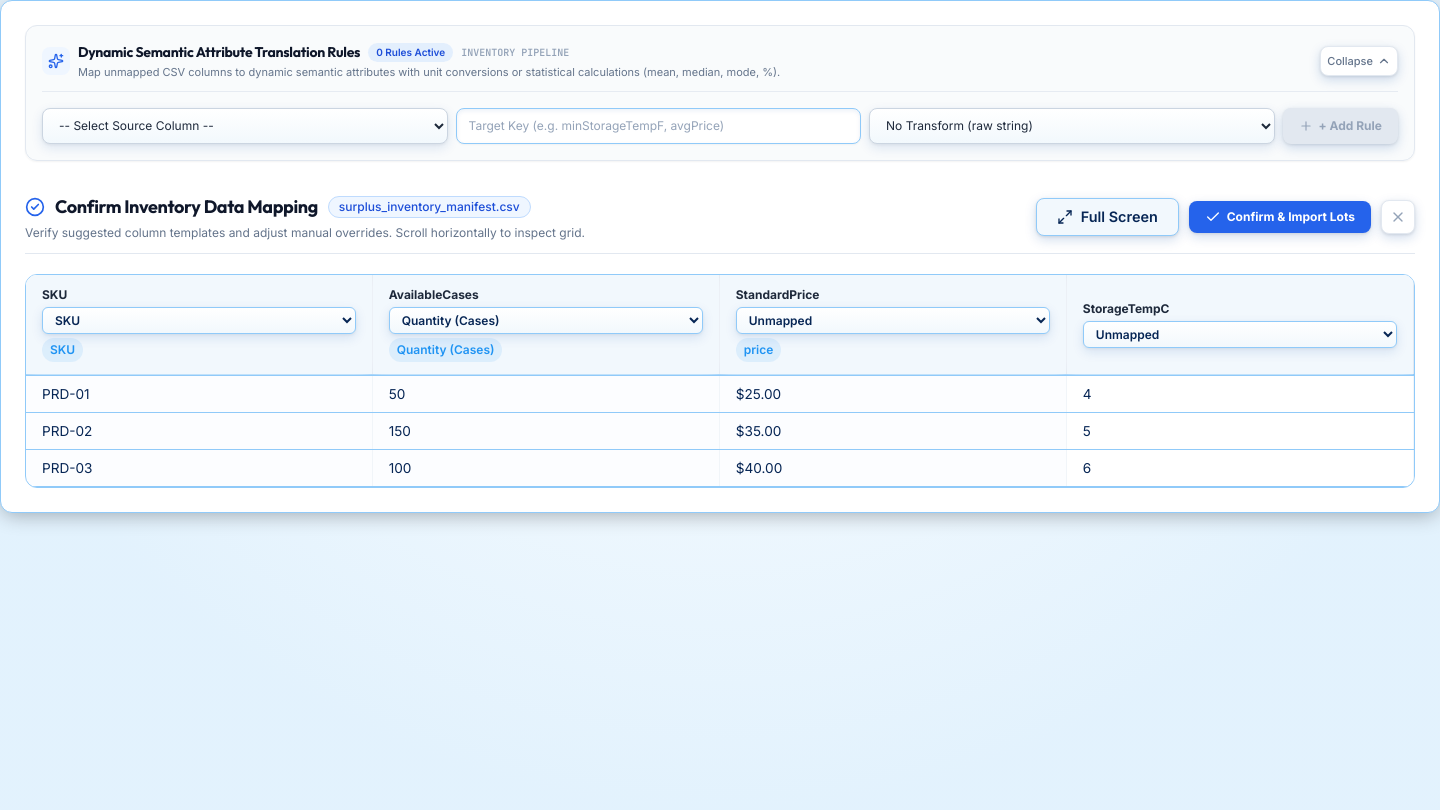
MappingPreview Components with Dynamic Semantic Translation Rules › InventoryMappingPreview › computes live metric when calculation option is selected on Inventory data
Select "AvailableCases" in the dropdown named "source column" at (245, 126), box [42,108,448,144]
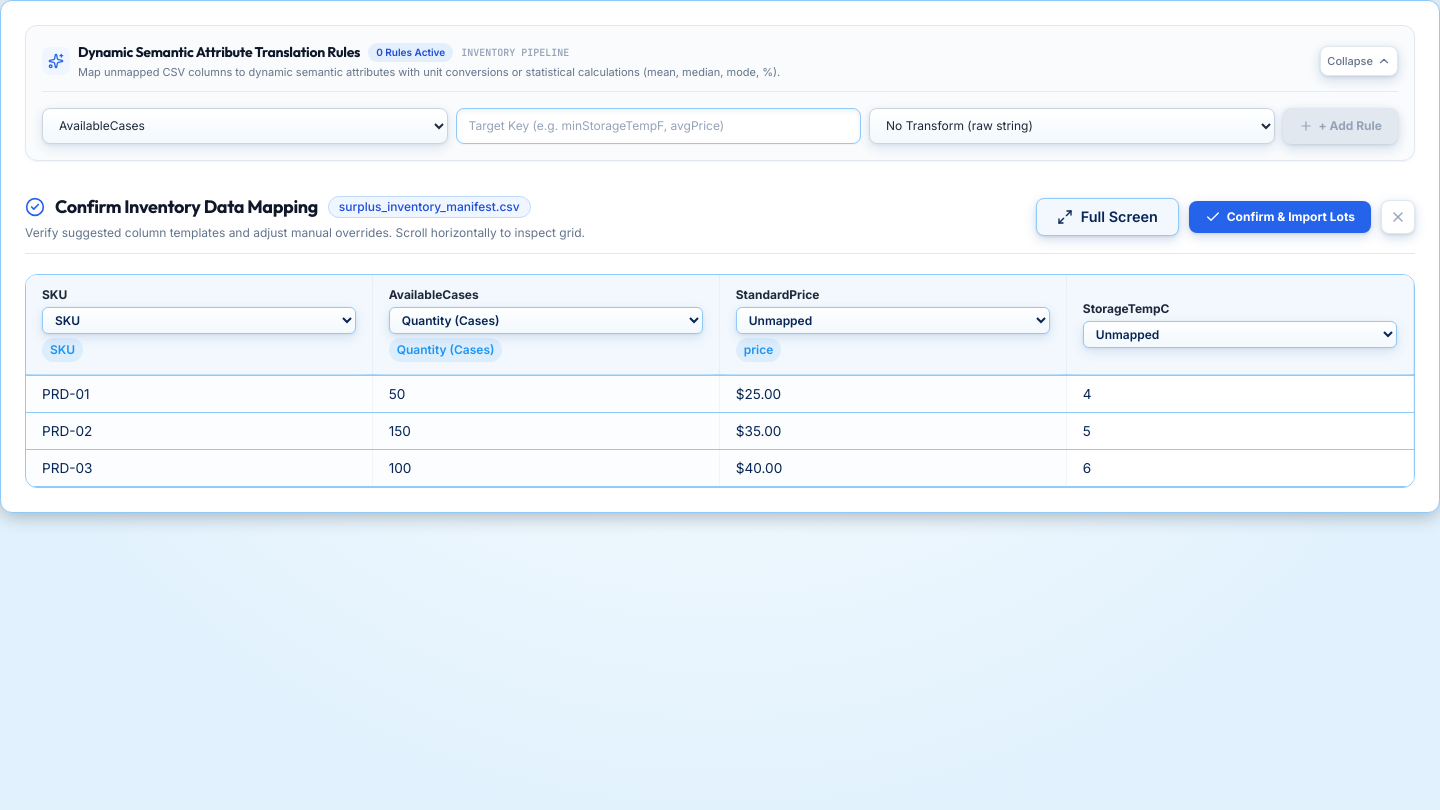
Select "Mean / Average" in the dropdown named "transformation or calculation" at (1072, 126), box [869,108,1275,144]
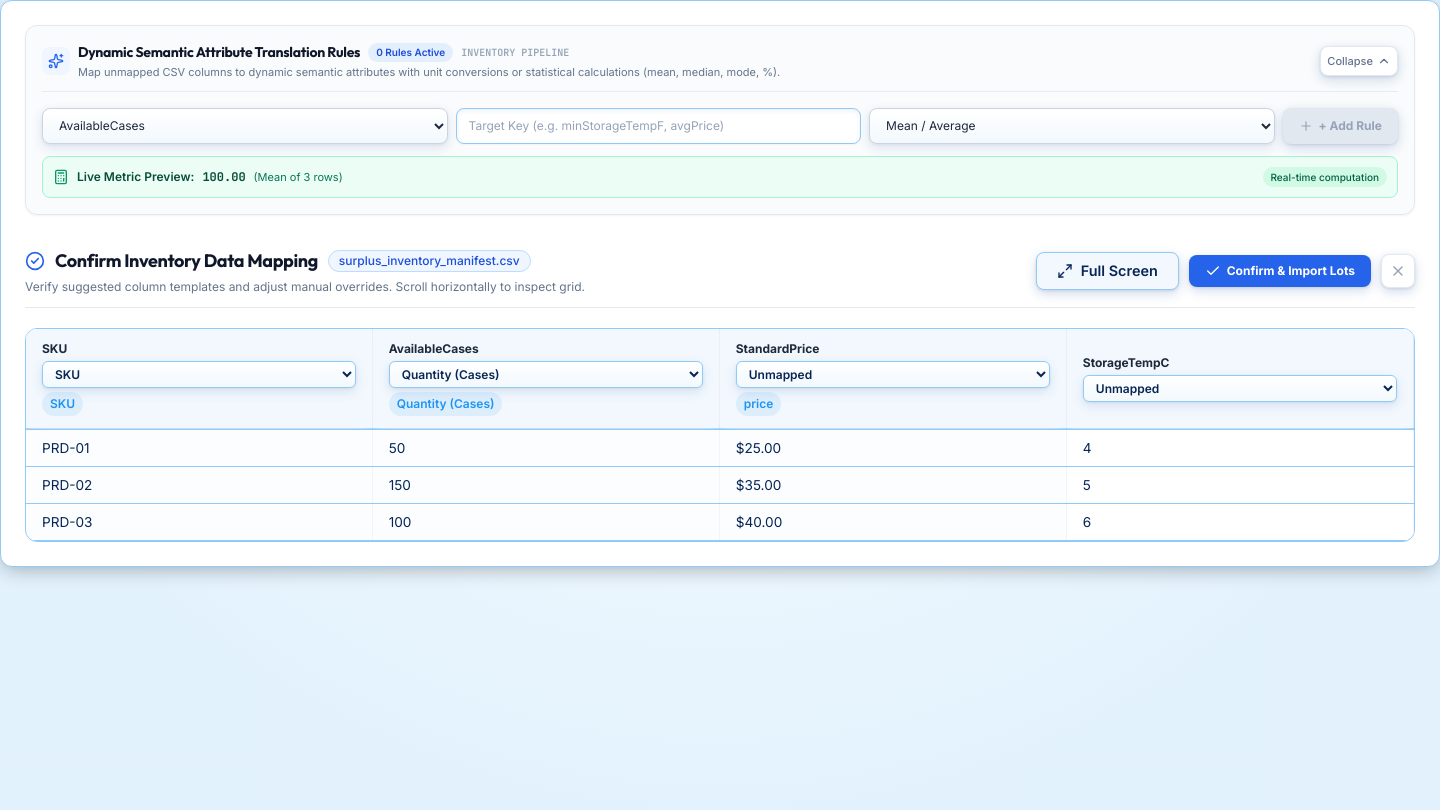
Expected: the text "Live Metric Preview:" is shown, [77,168,194,184]
Expected: the text "100.00" is shown, [202,168,246,184]
